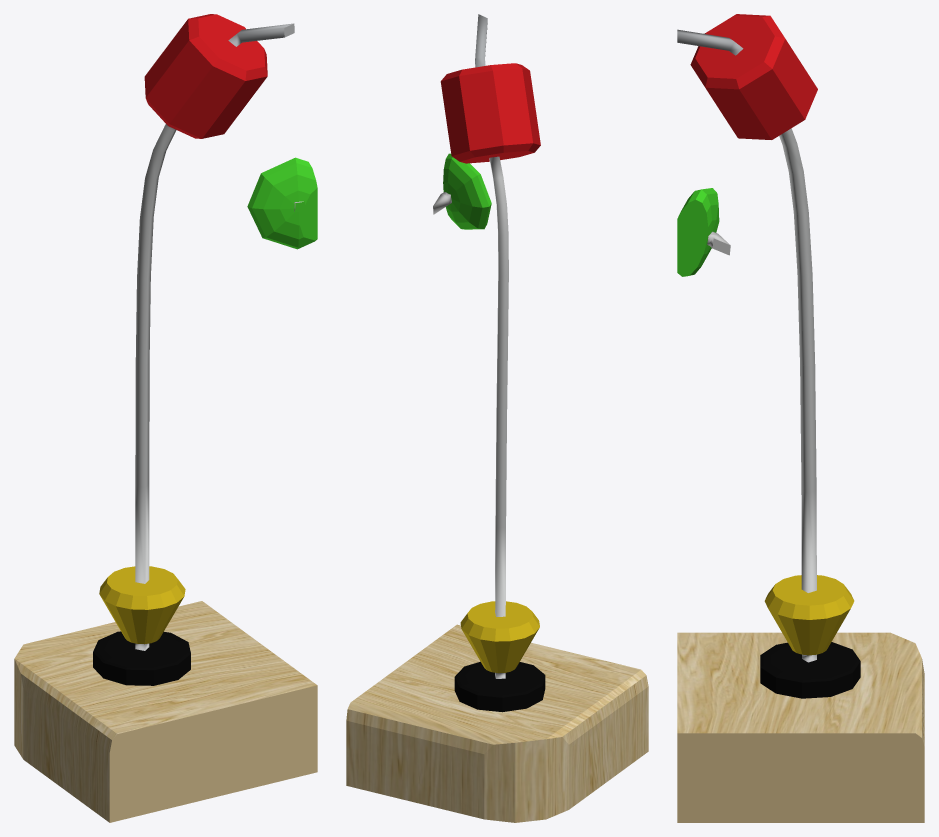
File: 0_Motorikschleife.fbx
The picture shows the model from 3 angles, left to right: view 1: azimuth 30°, elevation 25°; view 2: azimuth 150°, elevation 25°; view 3: azimuth 270°, elevation 25°; orthographic projection. The views are drawn at different scales.
Visible parts, largest first — view 1: Cube; view 2: Cube; view 3: Cube.
Part boxes in pixels (x1,y1,x2,y2): Cube: (14,14,317,822); Cube: (346,14,648,822); Cube: (677,14,924,822).
Size of the model in its own units: 500 by 1735 by 500.
